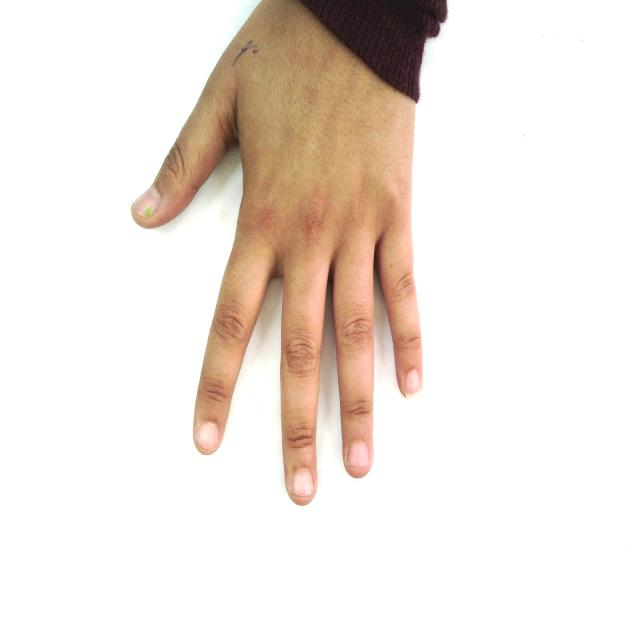Nail: (132, 186, 160, 217), (346, 441, 371, 469), (196, 422, 219, 451), (292, 469, 315, 497), (405, 369, 423, 399)
